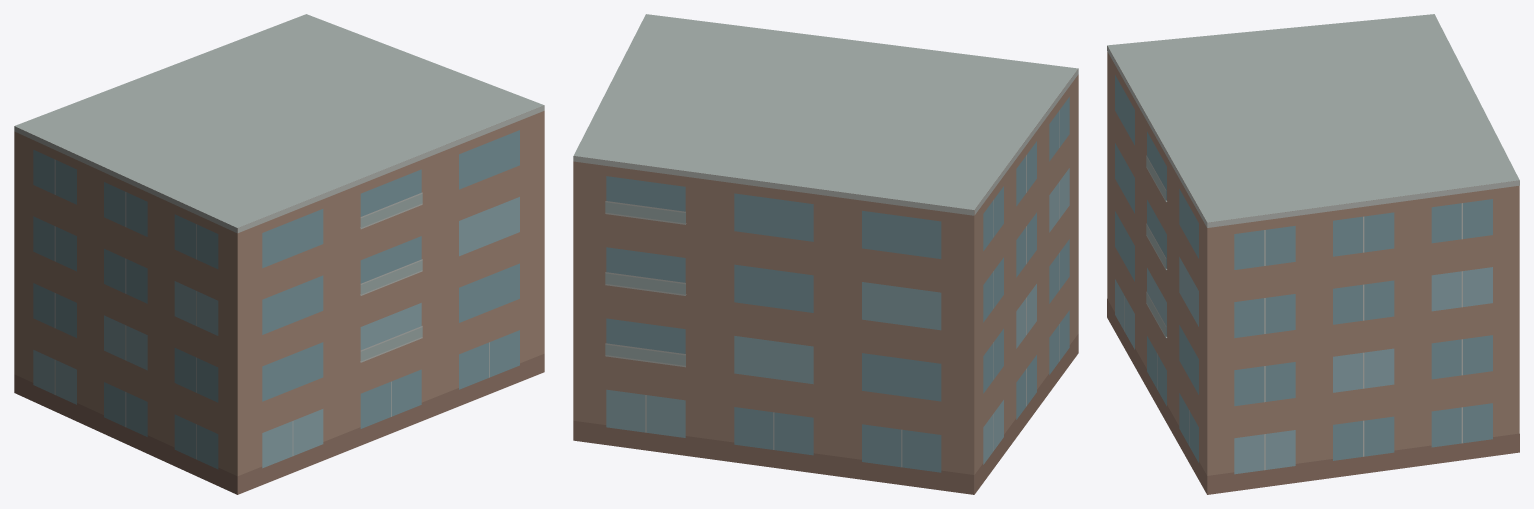
The model's file is survey-upis-32679234.glb.
3 renders of one model, left to right at view 1: azimuth 30°, elevation 25°; view 2: azimuth 150°, elevation 25°; view 3: azimuth 270°, elevation 25°, orthographic. The views are drawn at different scales.
Parts seen in each view (by area): view 1: survey-upis-32679234.tmp; view 2: survey-upis-32679234.tmp; view 3: survey-upis-32679234.tmp.
Part boxes in pixels (box(x1,y1,x2,y2)): survey-upis-32679234.tmp: box(14, 14, 544, 494); survey-upis-32679234.tmp: box(573, 14, 1078, 494); survey-upis-32679234.tmp: box(1107, 14, 1519, 494).
Size of the model in its own units: 20.23 by 12.3 by 16.91.
